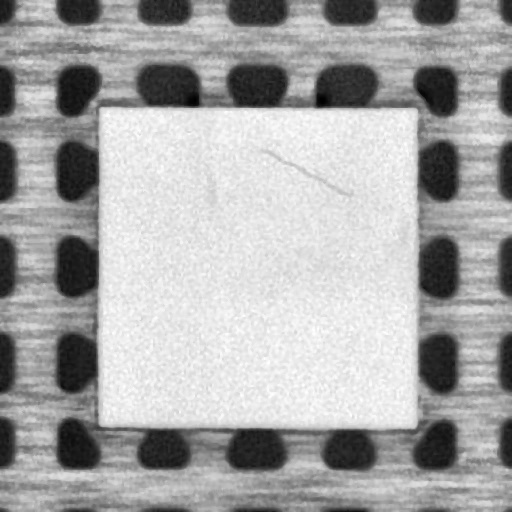DIE_CRACK: (259, 148, 355, 194)
